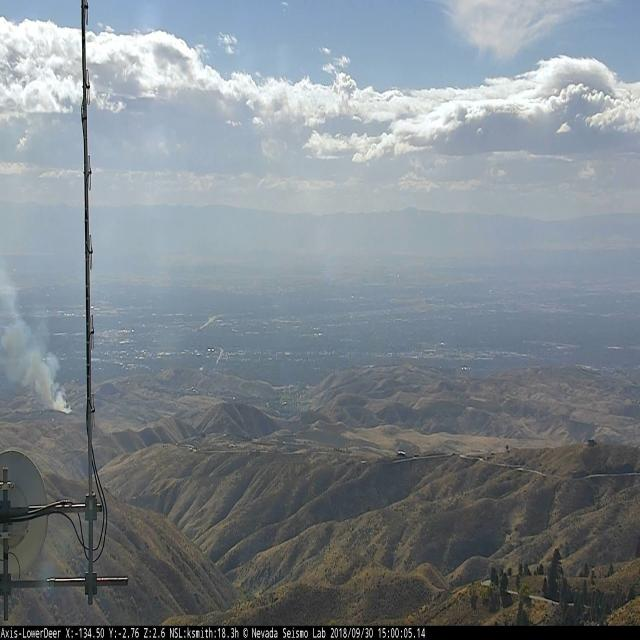smoke: (0, 267, 72, 413)
